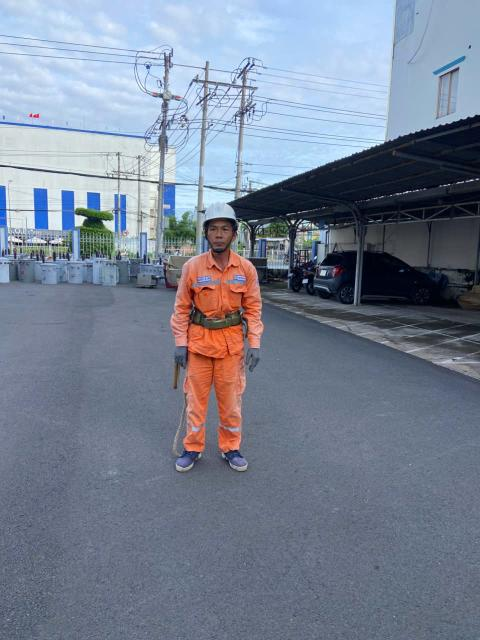gloves: (243, 340, 266, 375), (172, 339, 195, 371)
harness: (167, 294, 274, 333)
helmet: (199, 199, 241, 234)
shoes: (171, 433, 208, 474), (223, 430, 254, 473)
